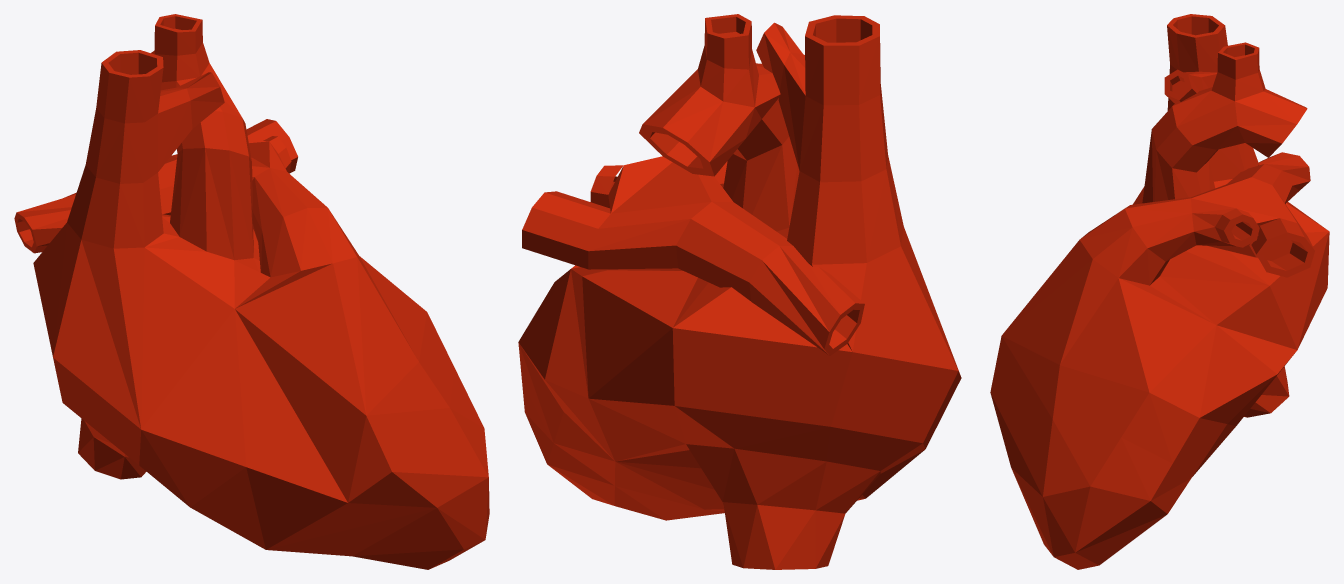
The model's file is 5POtMKIT_Ze.glb.
3 views of the same model, side by side, from view 1: azimuth 30°, elevation 25°; view 2: azimuth 150°, elevation 25°; view 3: azimuth 270°, elevation 25° (orthographic). The views are drawn at different scales.
Parts seen in each view (by area): view 1: Heart; view 2: Heart; view 3: Heart.
Boxes of the visible parts, x1=… form: Heart: x1=14, y1=14, x2=489, y2=569; Heart: x1=518, y1=14, x2=961, y2=569; Heart: x1=990, y1=14, x2=1329, y2=569.
Bounding box in the file's own units: 0.7737 × 1 × 0.6927.
